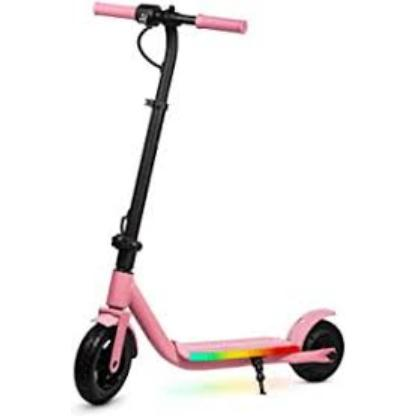bike: (72, 1, 346, 409)
